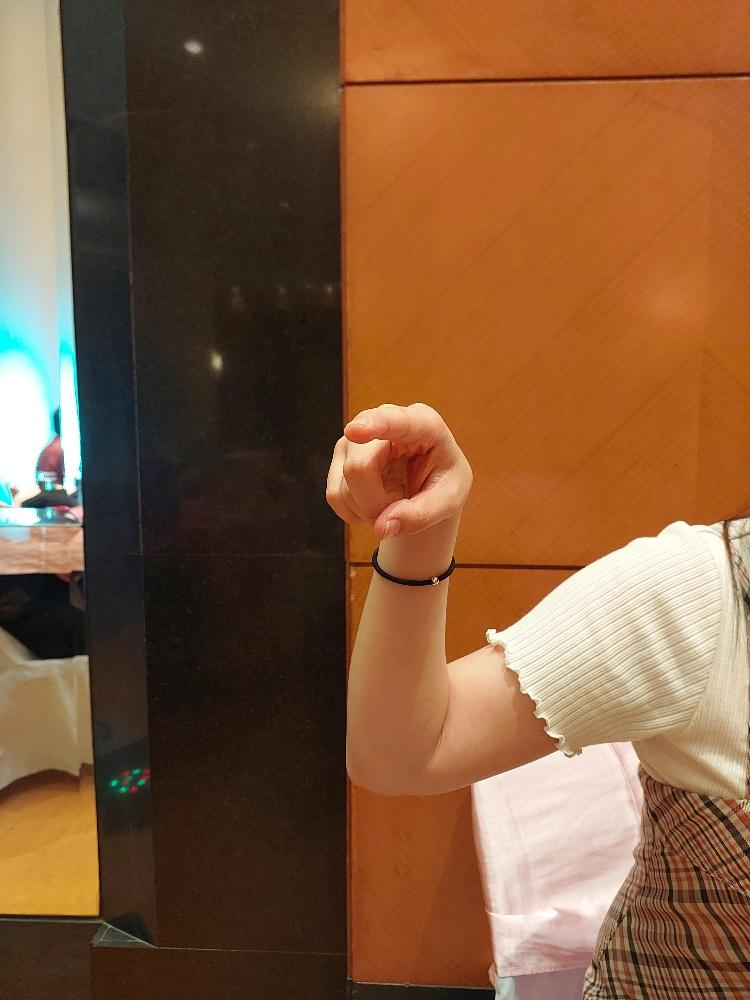z: (320, 398, 474, 546)
